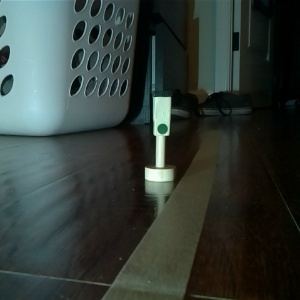traffic light green: (140, 89, 178, 185)
